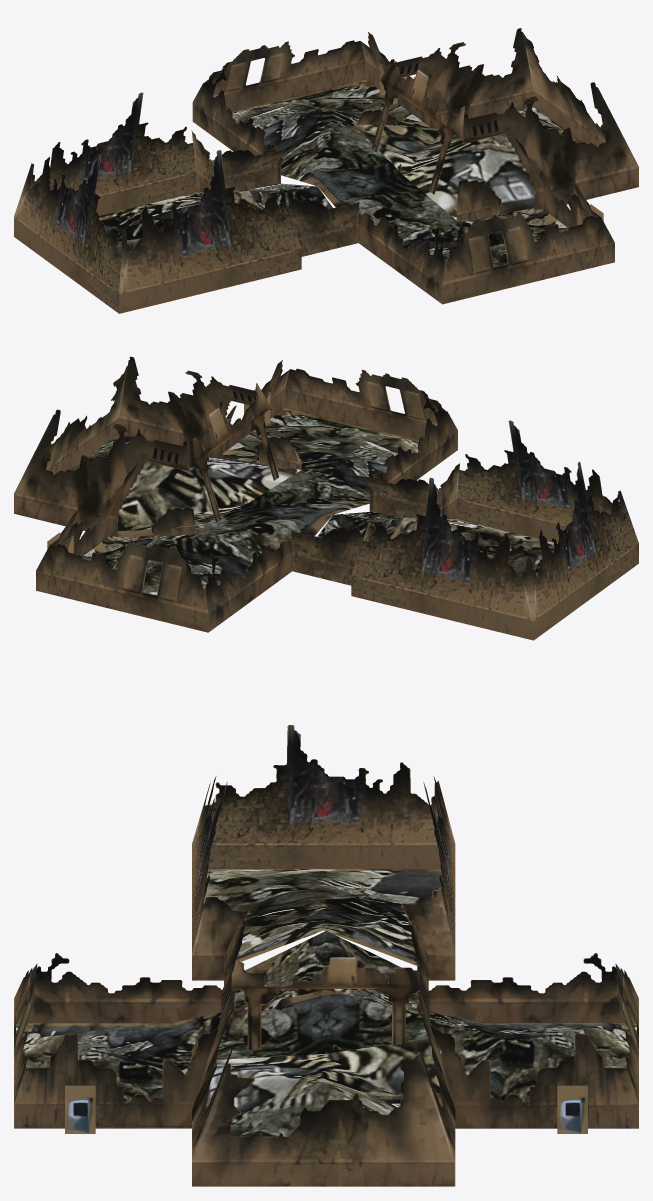
The model's file is hpgstation_dam_hdtex.glb.
3 renders of one model, top to bottom at view 1: azimuth 30°, elevation 25°; view 2: azimuth 150°, elevation 25°; view 3: azimuth 270°, elevation 25°, orthographic. The views are drawn at different scales.
Visible parts, largest first — view 1: HPGStationInnards; view 2: HPGStationInnards; view 3: HPGStationInnards.
Boxes of the visible parts, x1,y1,x2,y2 form: HPGStationInnards: [14, 28, 638, 313]; HPGStationInnards: [14, 356, 638, 640]; HPGStationInnards: [14, 725, 638, 1186].
Bounding box in the file's own units: 50.25 × 16.14 × 41.81.
Materials: 1 (1 with a texture image).
